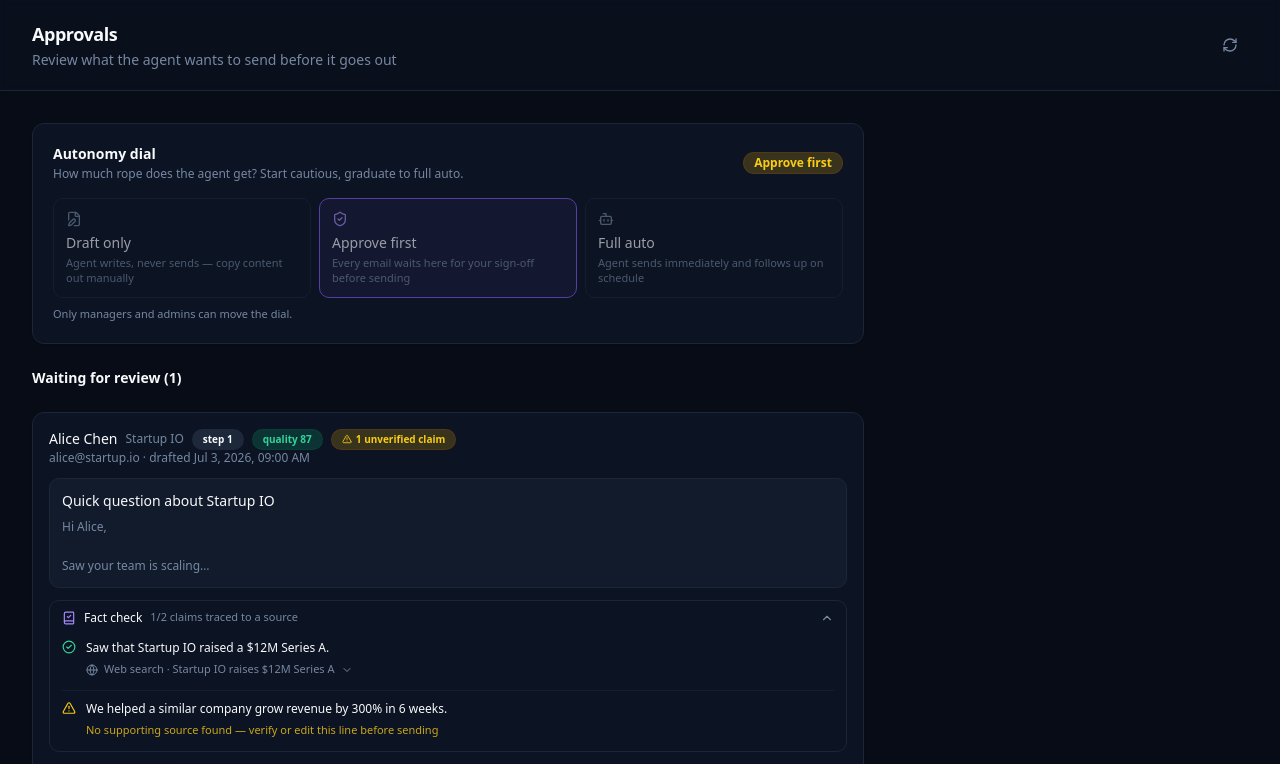
Test case: Approvals — provenance fact check › reveals the supporting source excerpt on click
Check: the text "Alice Chen" is shown, box [49,429,118,449]
Click the button "Web search · Startup IO raises $12M Series A": (219,670) [86,661,352,678]
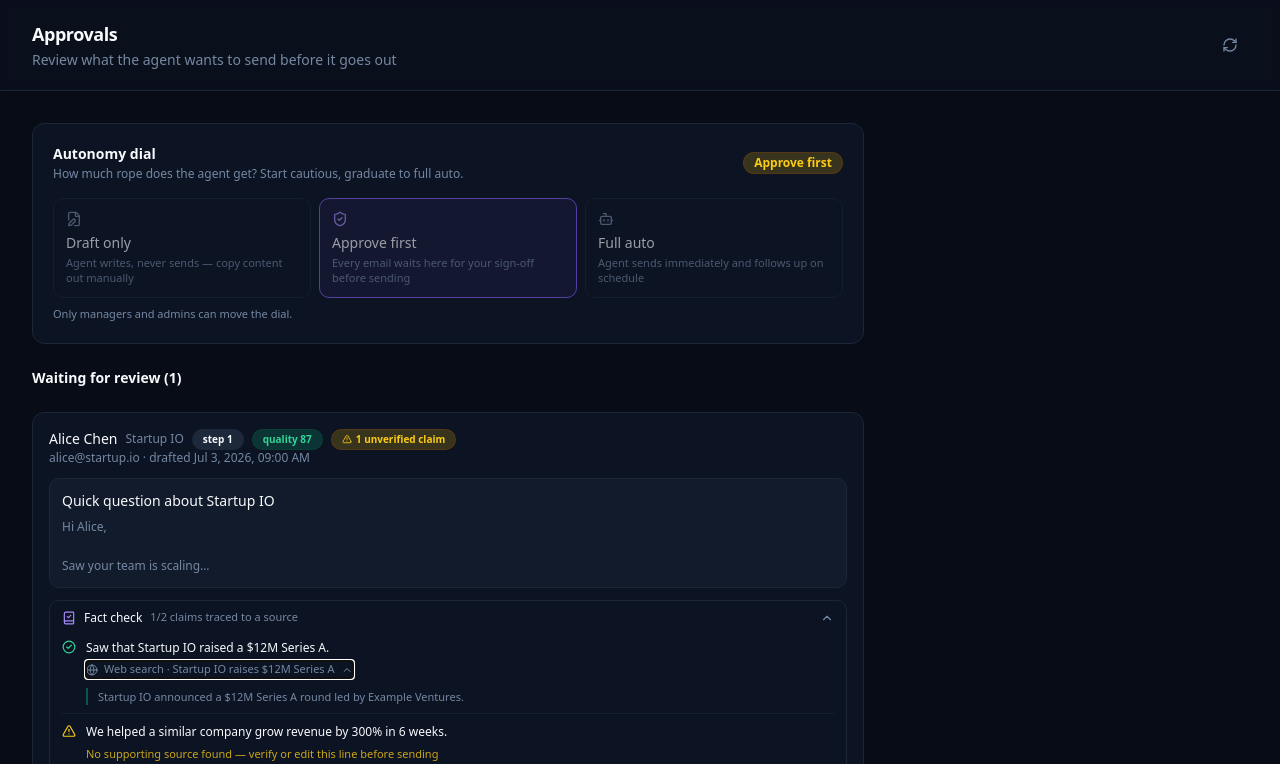
Check: the text "announced a $12M Series A round led by Example Ventures" is shown, box [98,688,464,704]
